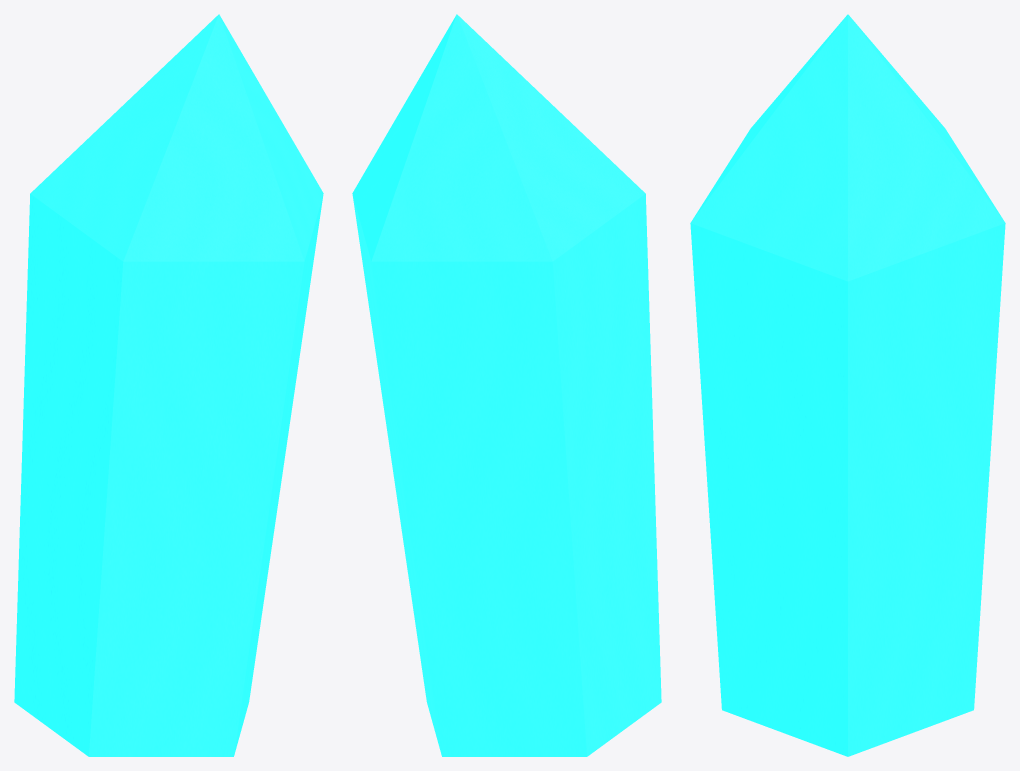
The model's file is FXM_CrystalShard.fbx.
The picture shows the model from 3 angles, left to right: view 1: azimuth 30°, elevation 25°; view 2: azimuth 150°, elevation 25°; view 3: azimuth 270°, elevation 25°; orthographic projection. The views are drawn at different scales.
Parts seen in each view (by area): view 1: SM_FXM_CrystalShard; view 2: SM_FXM_CrystalShard; view 3: SM_FXM_CrystalShard.
Part boxes in pixels (<box>): SM_FXM_CrystalShard: <box>14,14,323,756</box>; SM_FXM_CrystalShard: <box>352,14,661,756</box>; SM_FXM_CrystalShard: <box>690,14,1005,756</box>.
Size of the model in its own units: 19.83 by 19.02 by 48.46.
Materials: 1 (1 with a texture image).
